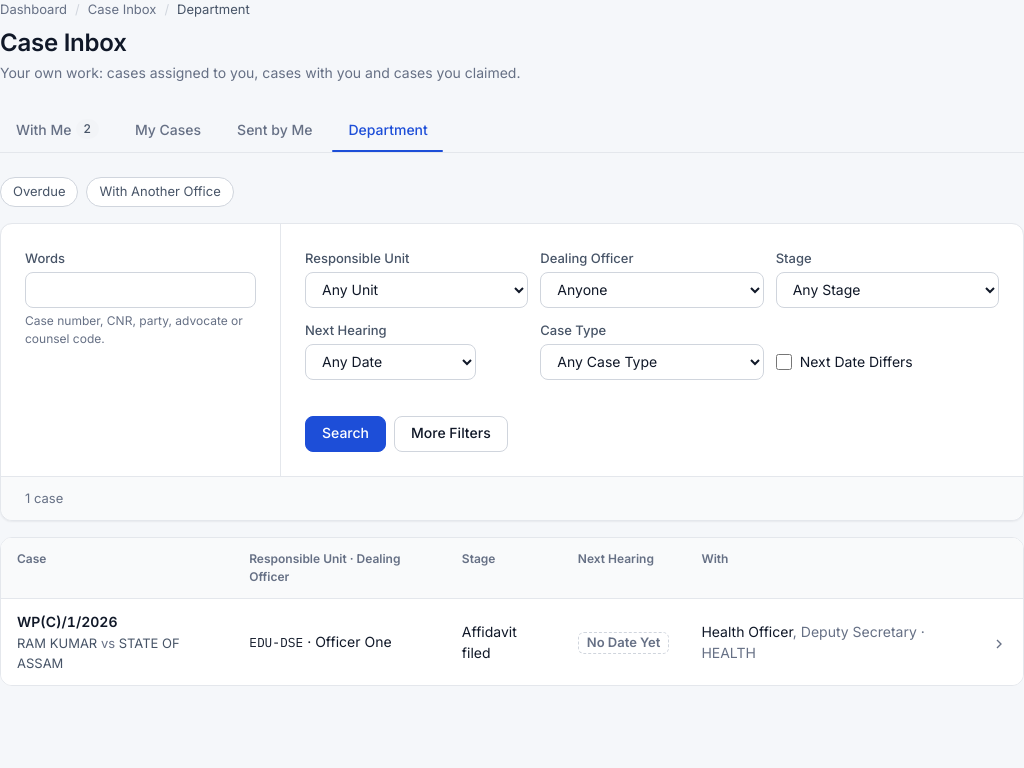
Scenario: Department (decisions 9 to 14) › the filter grid: Search, Responsible Unit, Dealing Officer, Stage, Next hearing; More filters slides open with the rest; no status switch
Expected: the text "EDU-DSE" is shown, [249,634,303,651]
Expected: the text "Officer One" is shown, [315,633,392,650]
Click the button "More Filters": point(451, 434) [394,416,508,452]
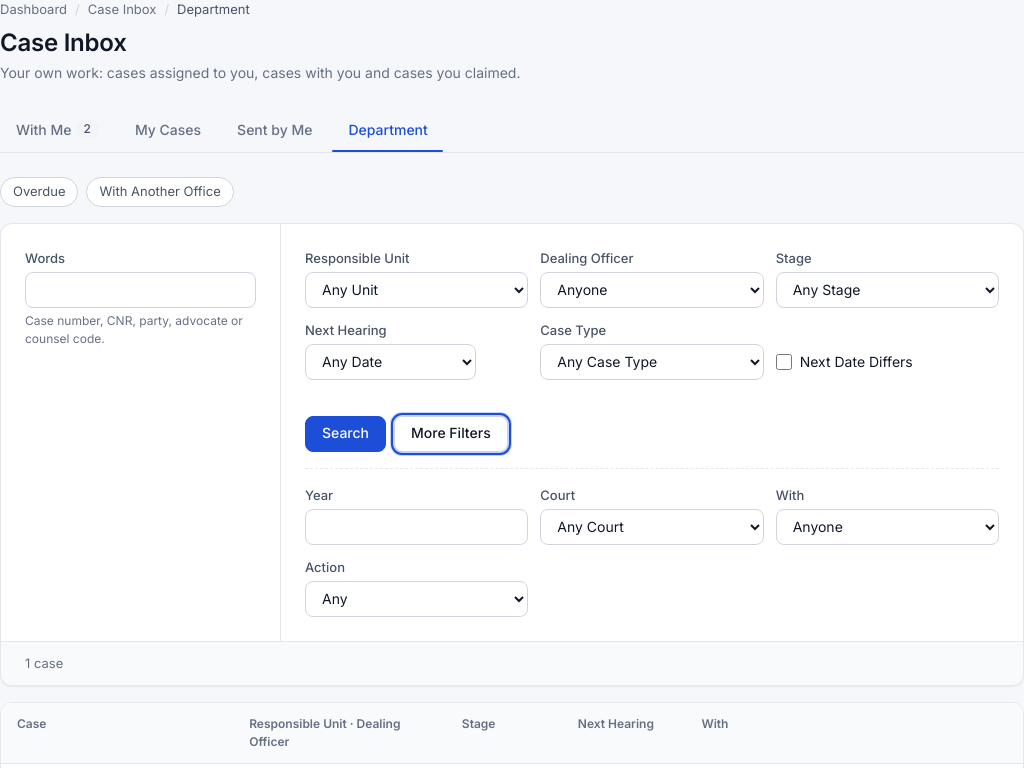
Expected: the field labelled "Year" is shown, [305,508,528,544]
Expected: the dropdown labelled "Court" is shown, [540,508,764,544]
Expected: the dropdown labelled "With" is shown, [776,508,999,544]
